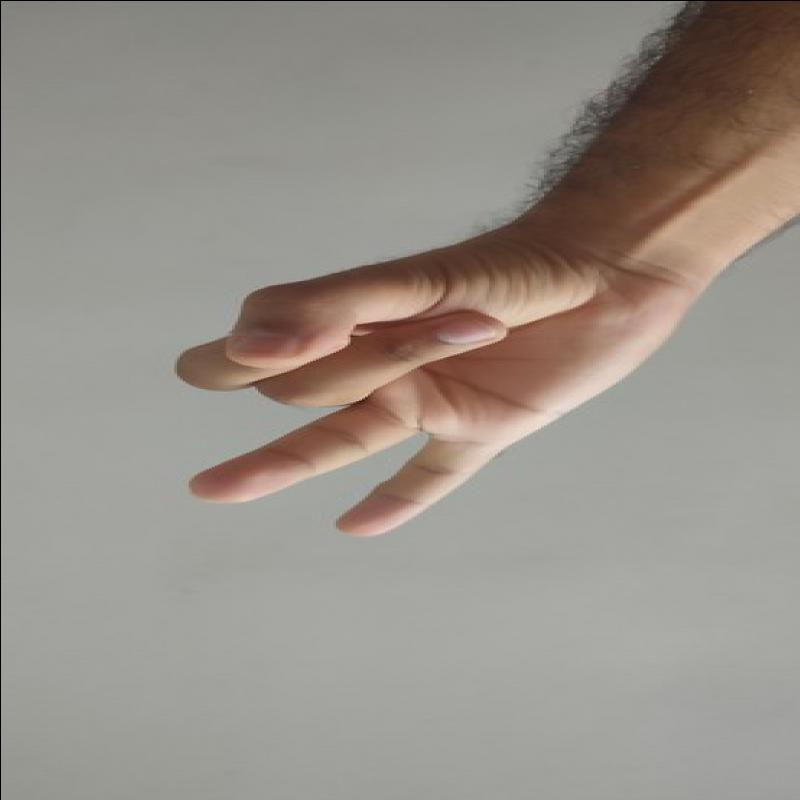Katakam: (148, 228, 707, 558)
